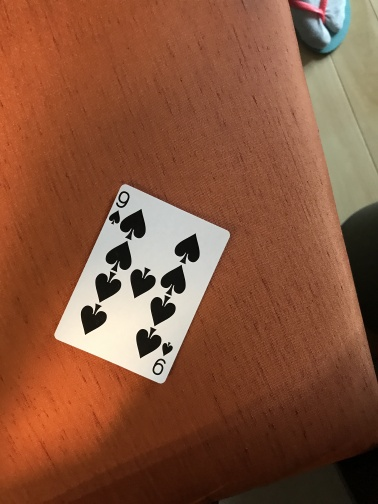nine: (53, 181, 233, 386)
